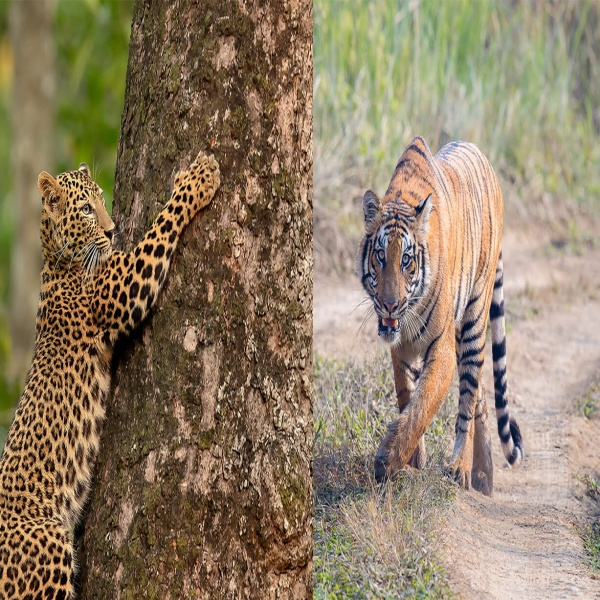Leopard: (3, 148, 226, 600)
Tiger: (360, 134, 527, 497)
